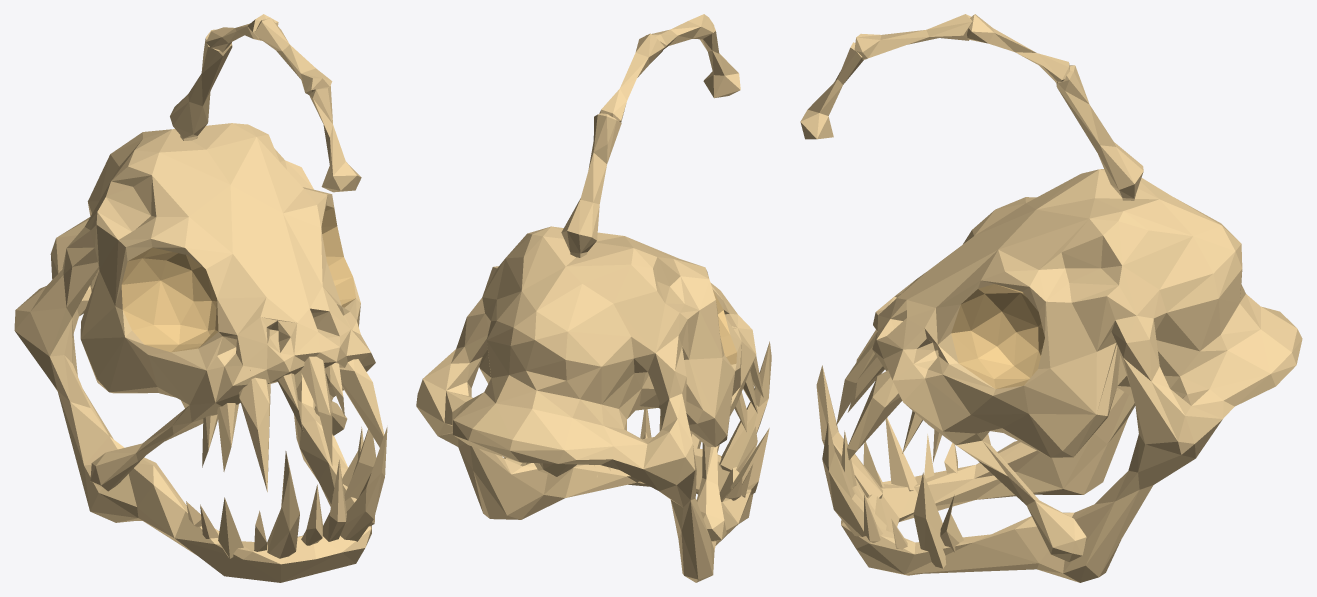
Rendered from Fish_Head_001.fbx.
3 renders of one model, left to right at view 1: azimuth 30°, elevation 25°; view 2: azimuth 150°, elevation 25°; view 3: azimuth 270°, elevation 25°, orthographic. The views are drawn at different scales.
Parts seen in each view (by area): view 1: Fish_Head_001; view 2: Fish_Head_001; view 3: Fish_Head_001.
Boxes of the visible parts, left/top/right/bottom form: Fish_Head_001: left=14, top=14, right=387, bottom=582; Fish_Head_001: left=416, top=14, right=771, bottom=582; Fish_Head_001: left=800, top=14, right=1302, bottom=582.
Bounding box in the file's own units: 0.4489 × 0.7558 × 0.6455.
